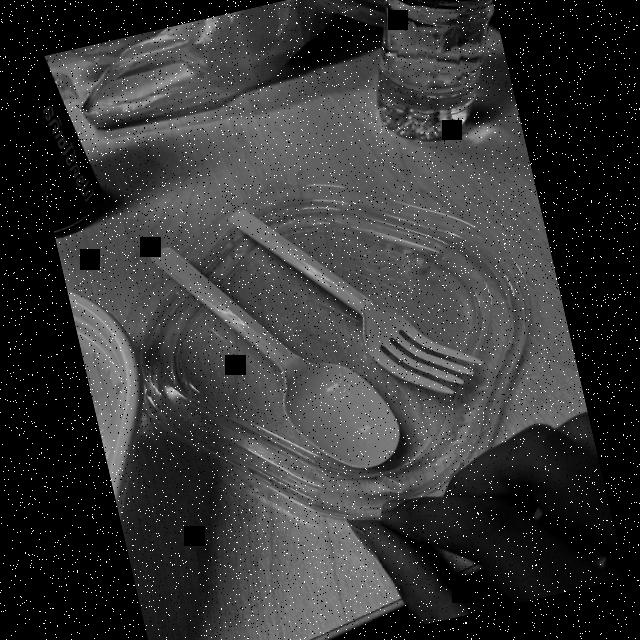plastic_cultery: (138, 202, 416, 509), (226, 156, 496, 434)
